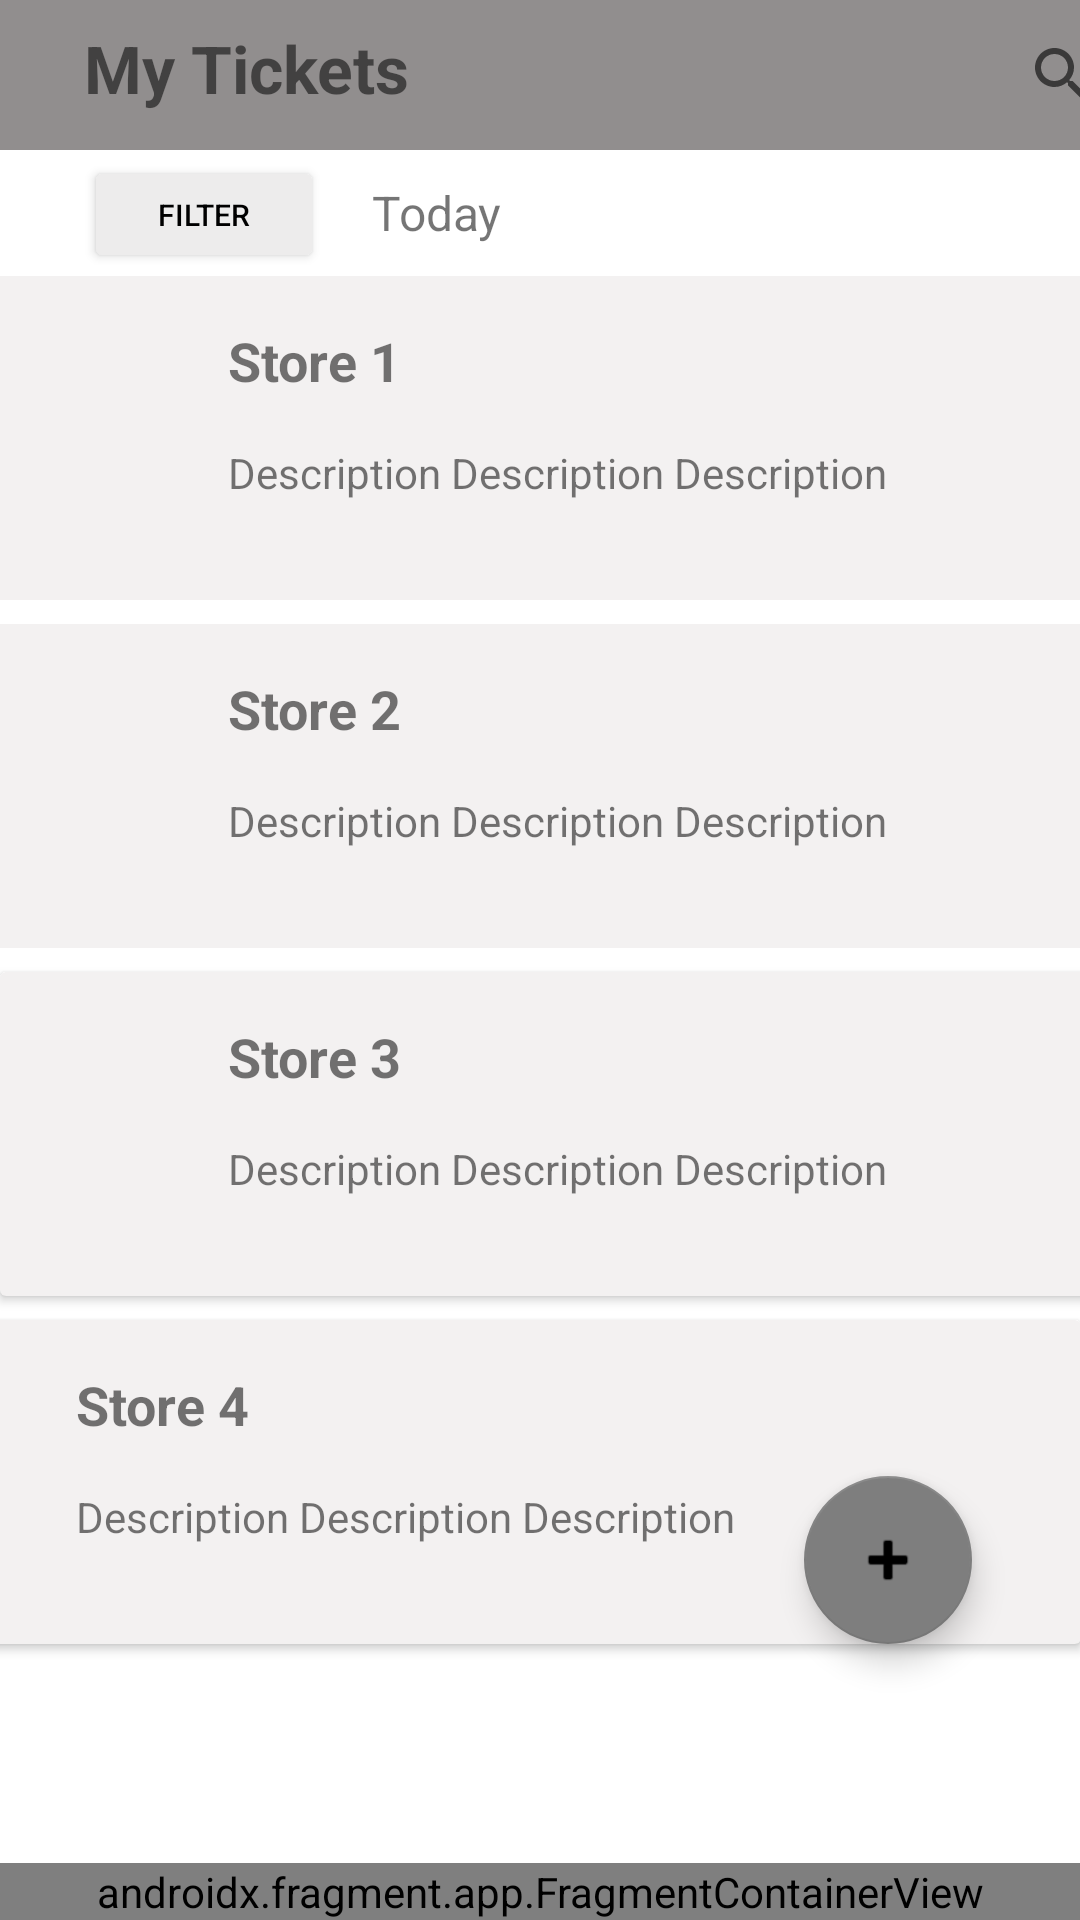

Icon bounding boxes for this 1080x1920 phone screenshot, format BBox(x1, y1, x2, y2):
add: BBox(804, 1476, 972, 1644)
